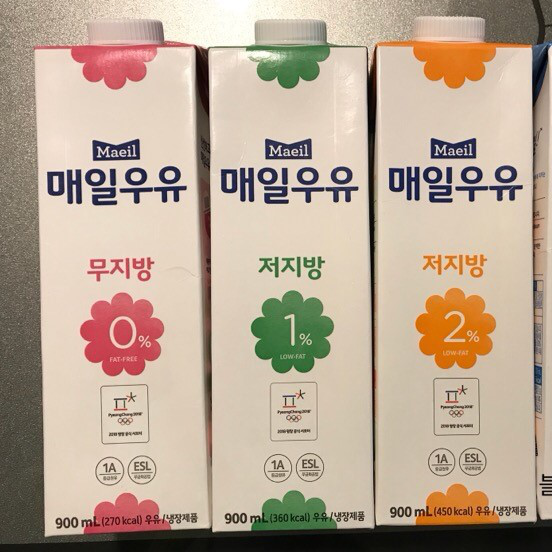milk: (30, 16, 552, 539)
